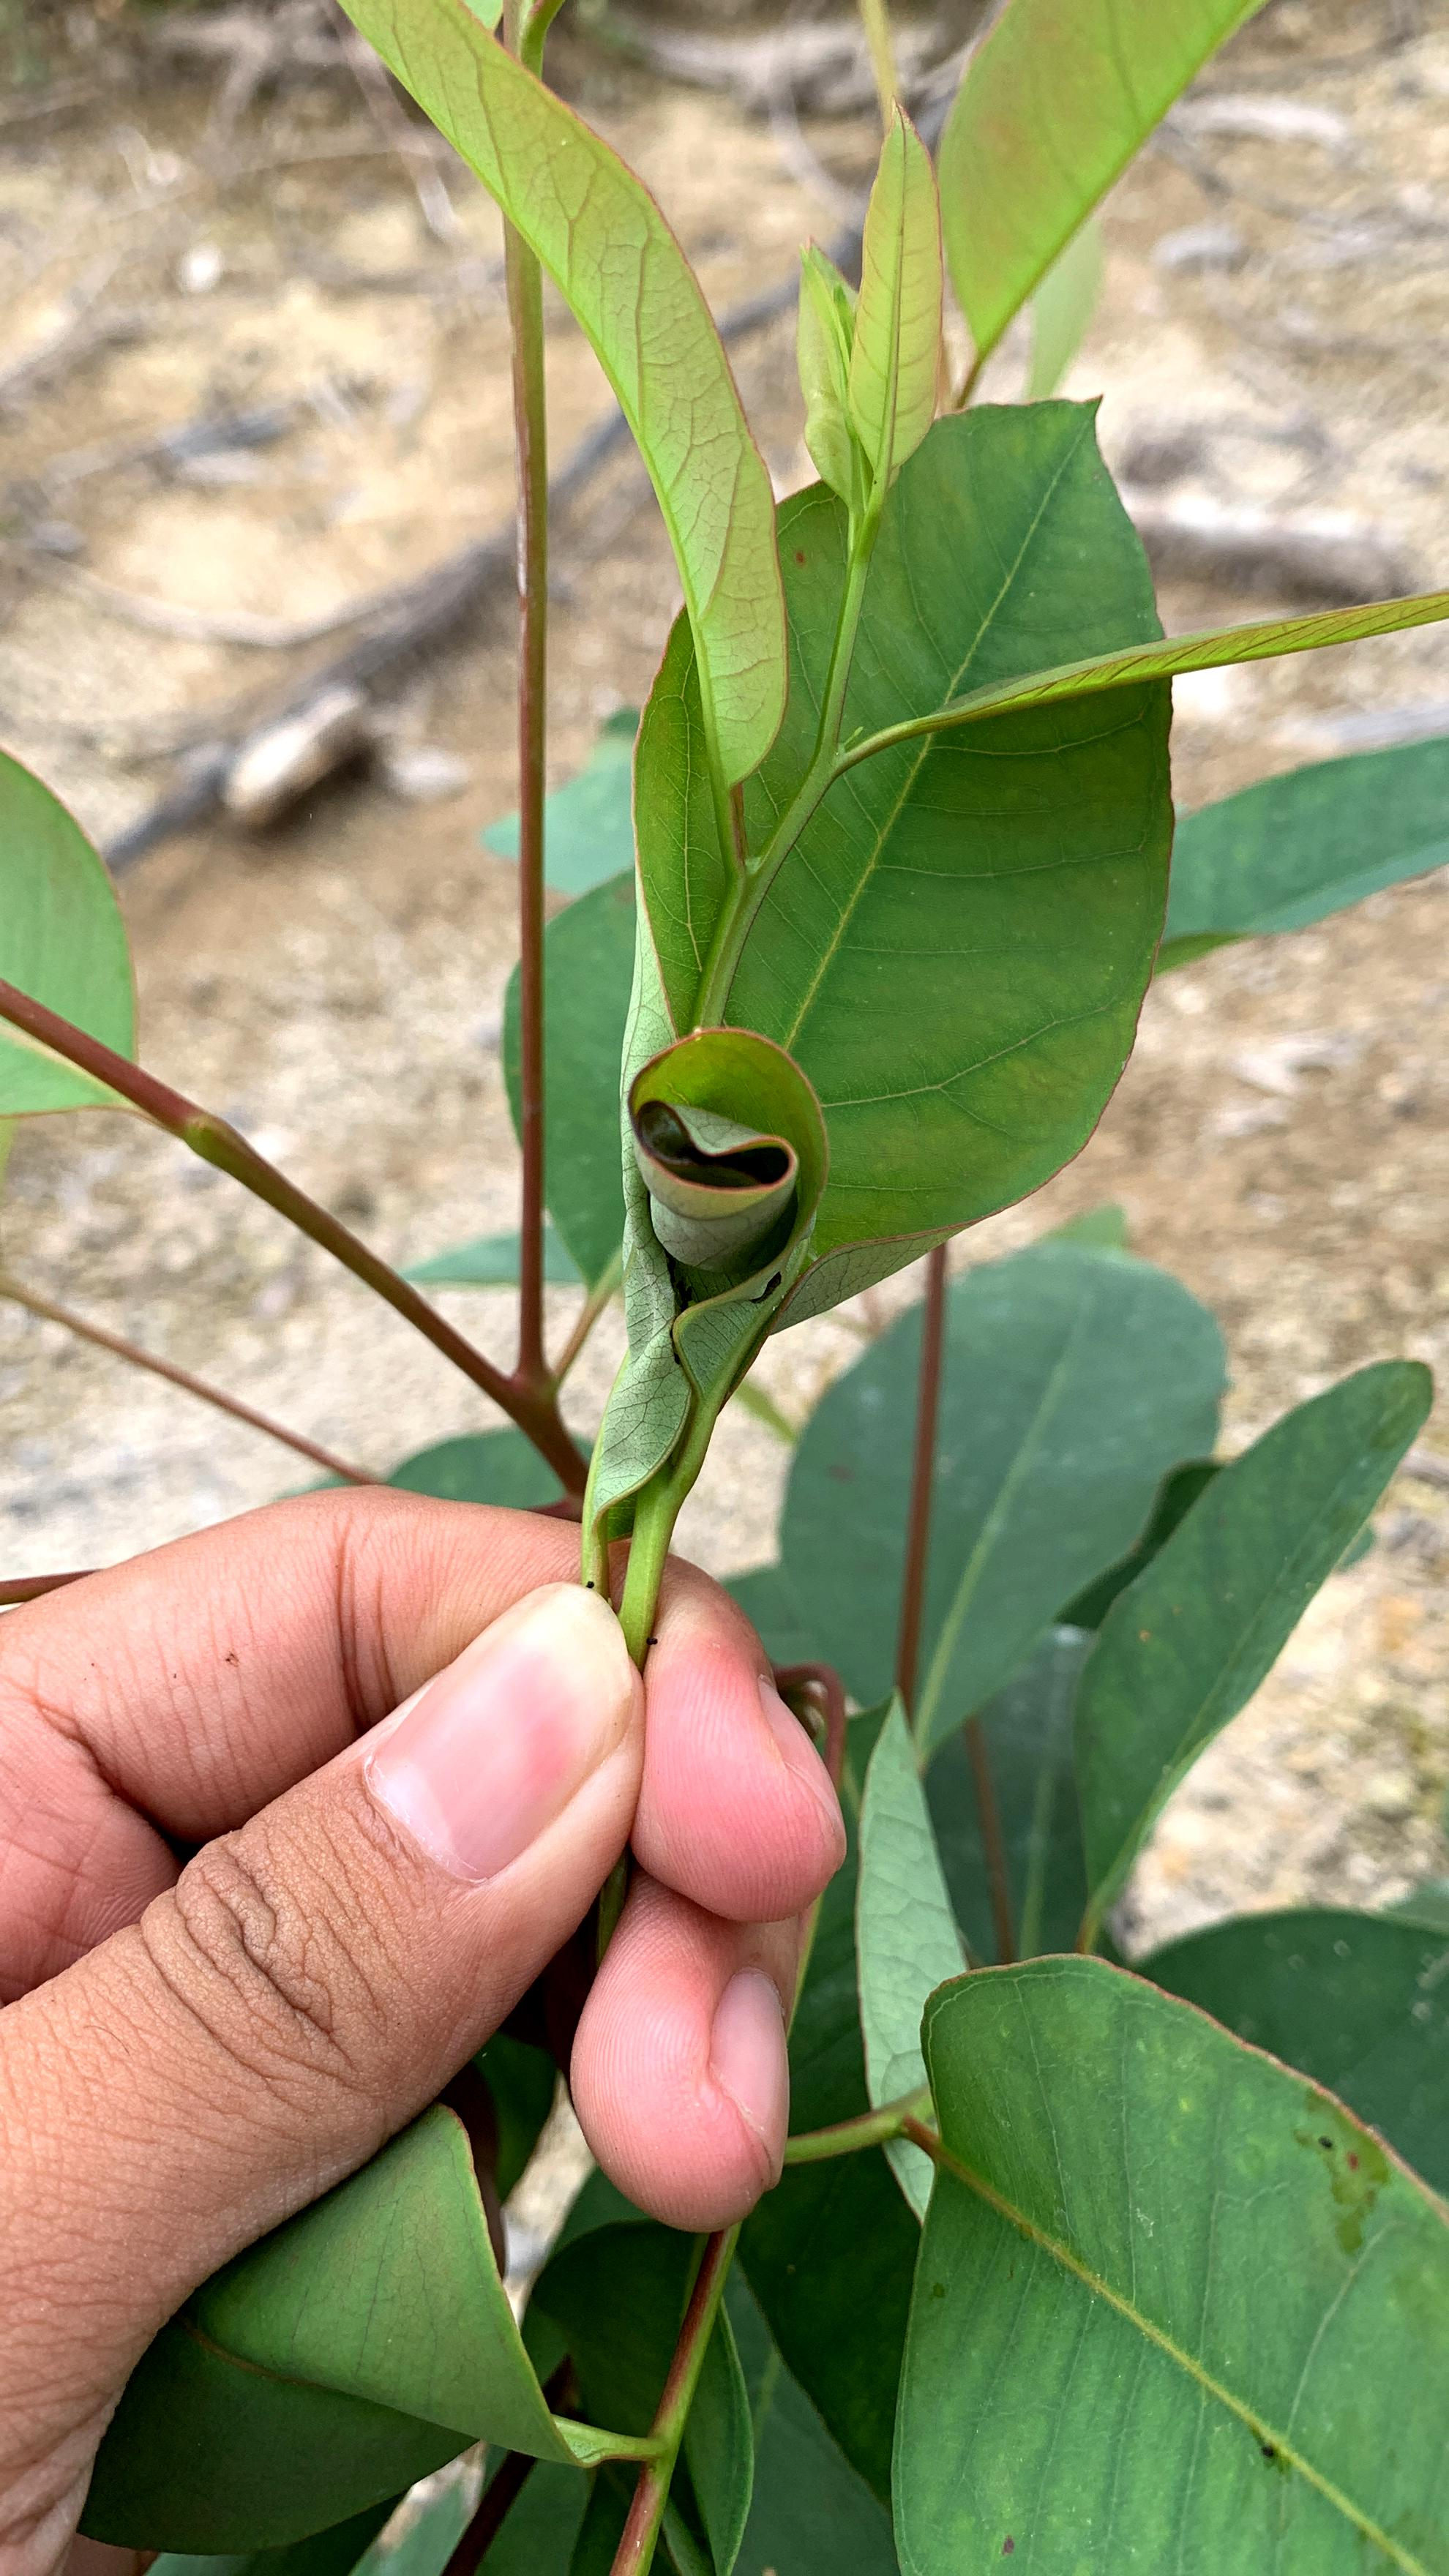Leaf Roller - Leaf: (626, 1022, 852, 1475)
